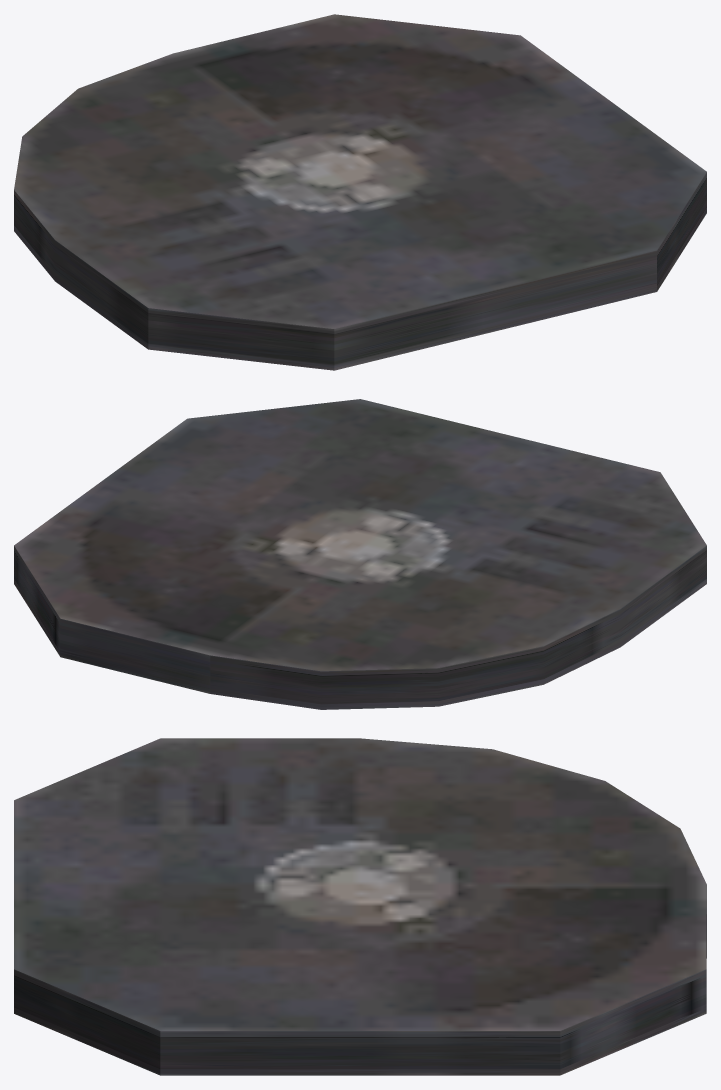
File: eqp_data_disk_l0.fbx
The picture shows the model from 3 angles, top to bottom: view 1: azimuth 30°, elevation 25°; view 2: azimuth 150°, elevation 25°; view 3: azimuth 270°, elevation 25°; orthographic projection. The views are drawn at different scales.
Visible parts, largest first — view 1: mesh_node; view 2: mesh_node; view 3: mesh_node.
Part boxes in pixels (bbox=[...]): mesh_node: bbox=[14, 14, 706, 370]; mesh_node: bbox=[14, 399, 706, 709]; mesh_node: bbox=[14, 738, 706, 1075].
Size of the model in its own units: 0.0789 by 0.0056 by 0.079.
1 material, 1 textured.
